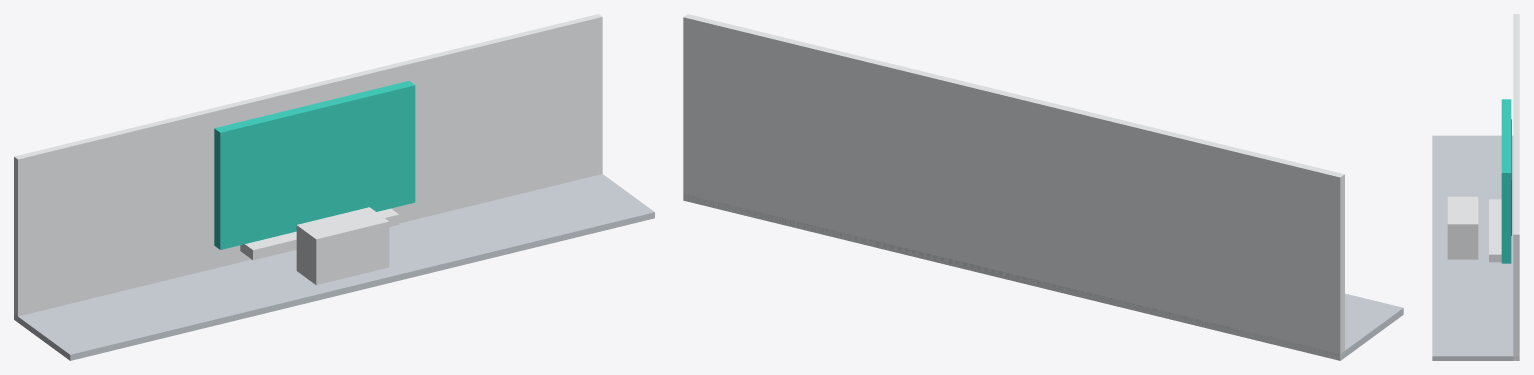
3 views of the same model, side by side, from view 1: azimuth 30°, elevation 25°; view 2: azimuth 150°, elevation 25°; view 3: azimuth 270°, elevation 25° (orthographic). The views are drawn at different scales.
Parts seen in each view (by area): view 1: Exhibition Booth Concept; view 2: Exhibition Booth Concept; view 3: Exhibition Booth Concept.
Boxes of the visible parts, box(x1,y1,x2,y2) form: Exhibition Booth Concept: box(14, 14, 654, 360); Exhibition Booth Concept: box(683, 14, 1403, 360); Exhibition Booth Concept: box(1432, 14, 1519, 360).
Size of the model in its own units: 12 by 3.2 by 2.
